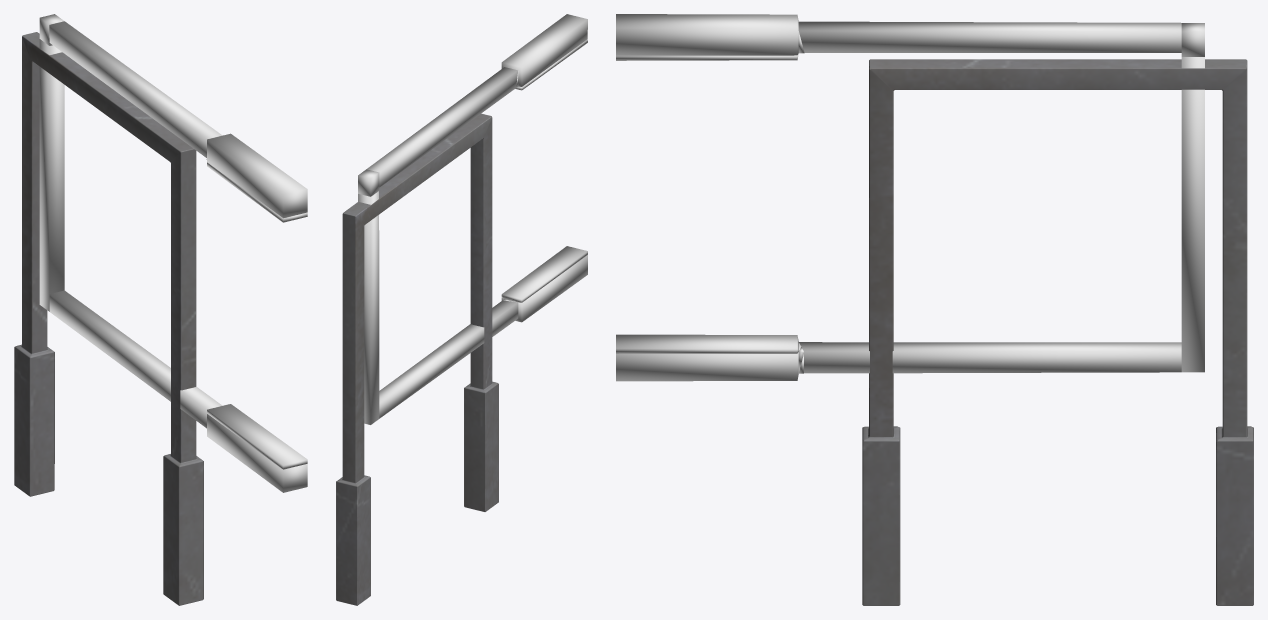
The model's file is SM_Support_Vent.fbx.
3 views of the same model, side by side, from view 1: azimuth 30°, elevation 25°; view 2: azimuth 150°, elevation 25°; view 3: azimuth 270°, elevation 25° (orthographic). The views are drawn at different scales.
Visible parts, largest first — view 1: SM_Support_Vent, SM_Support_Vent_ConvexHulls; view 2: SM_Support_Vent, SM_Support_Vent_ConvexHulls; view 3: SM_Support_Vent_ConvexHulls, SM_Support_Vent.
Part boxes in pixels (box(x1,y1,x2,y2)): SM_Support_Vent: box(14, 32, 203, 605); SM_Support_Vent_ConvexHulls: box(39, 14, 307, 492); SM_Support_Vent: box(336, 113, 498, 605); SM_Support_Vent_ConvexHulls: box(358, 14, 587, 424); SM_Support_Vent_ConvexHulls: box(616, 14, 1204, 381); SM_Support_Vent: box(862, 59, 1253, 605).
Size of the model in its own units: 0.1066 by 1.94 by 1.94.
